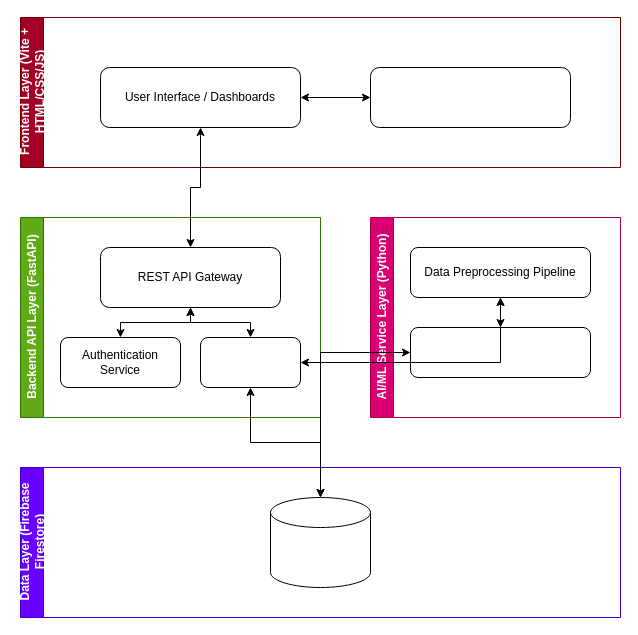
Some shapes in this 638 by 635 pixel diagram are drawn without their labels. Here are the shapes that lost their labels. From the top down, the centre of each, then its label:
the point at 470,97: State Management / Axios
the point at 250,362: Core Business Logic
the point at 500,352: Forecasting Model
the point at 320,542: Cloud Database
